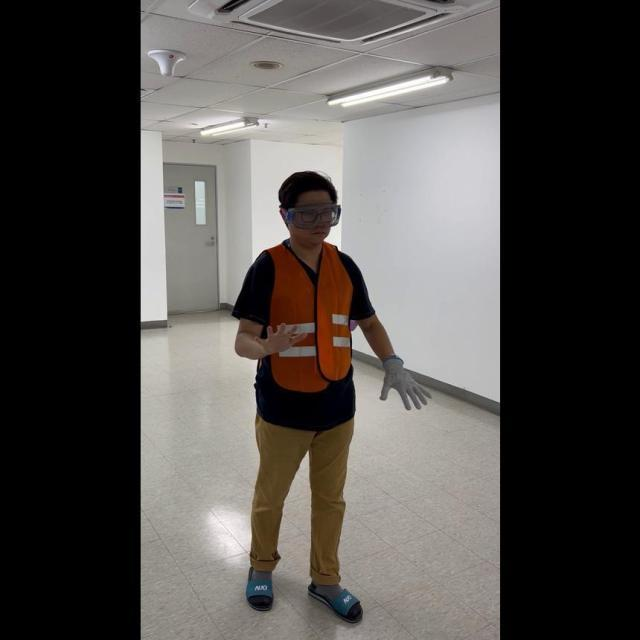bare_hand: (255, 317, 306, 357)
gloved_hand: (377, 352, 429, 411)
